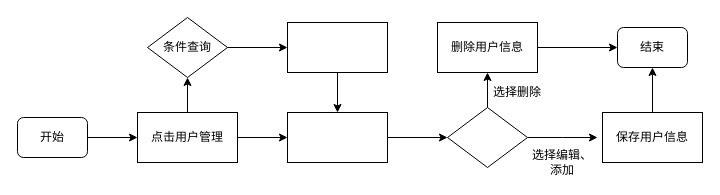
The diagram is 720 pixels wide and 195 high, and some of its shapes have lost their labels. The centre of each missing label's shape, as x and y in pixels:
操作: (487,137)
显示用户信息: (337,137)
筛选成功: (337,47)
